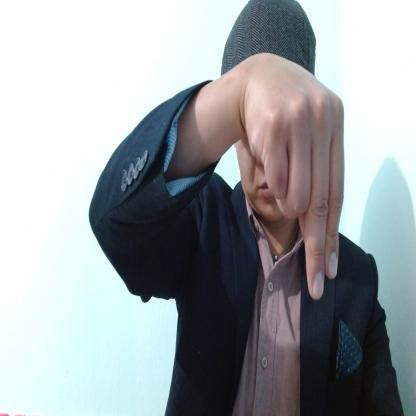N: (238, 49, 346, 300)
